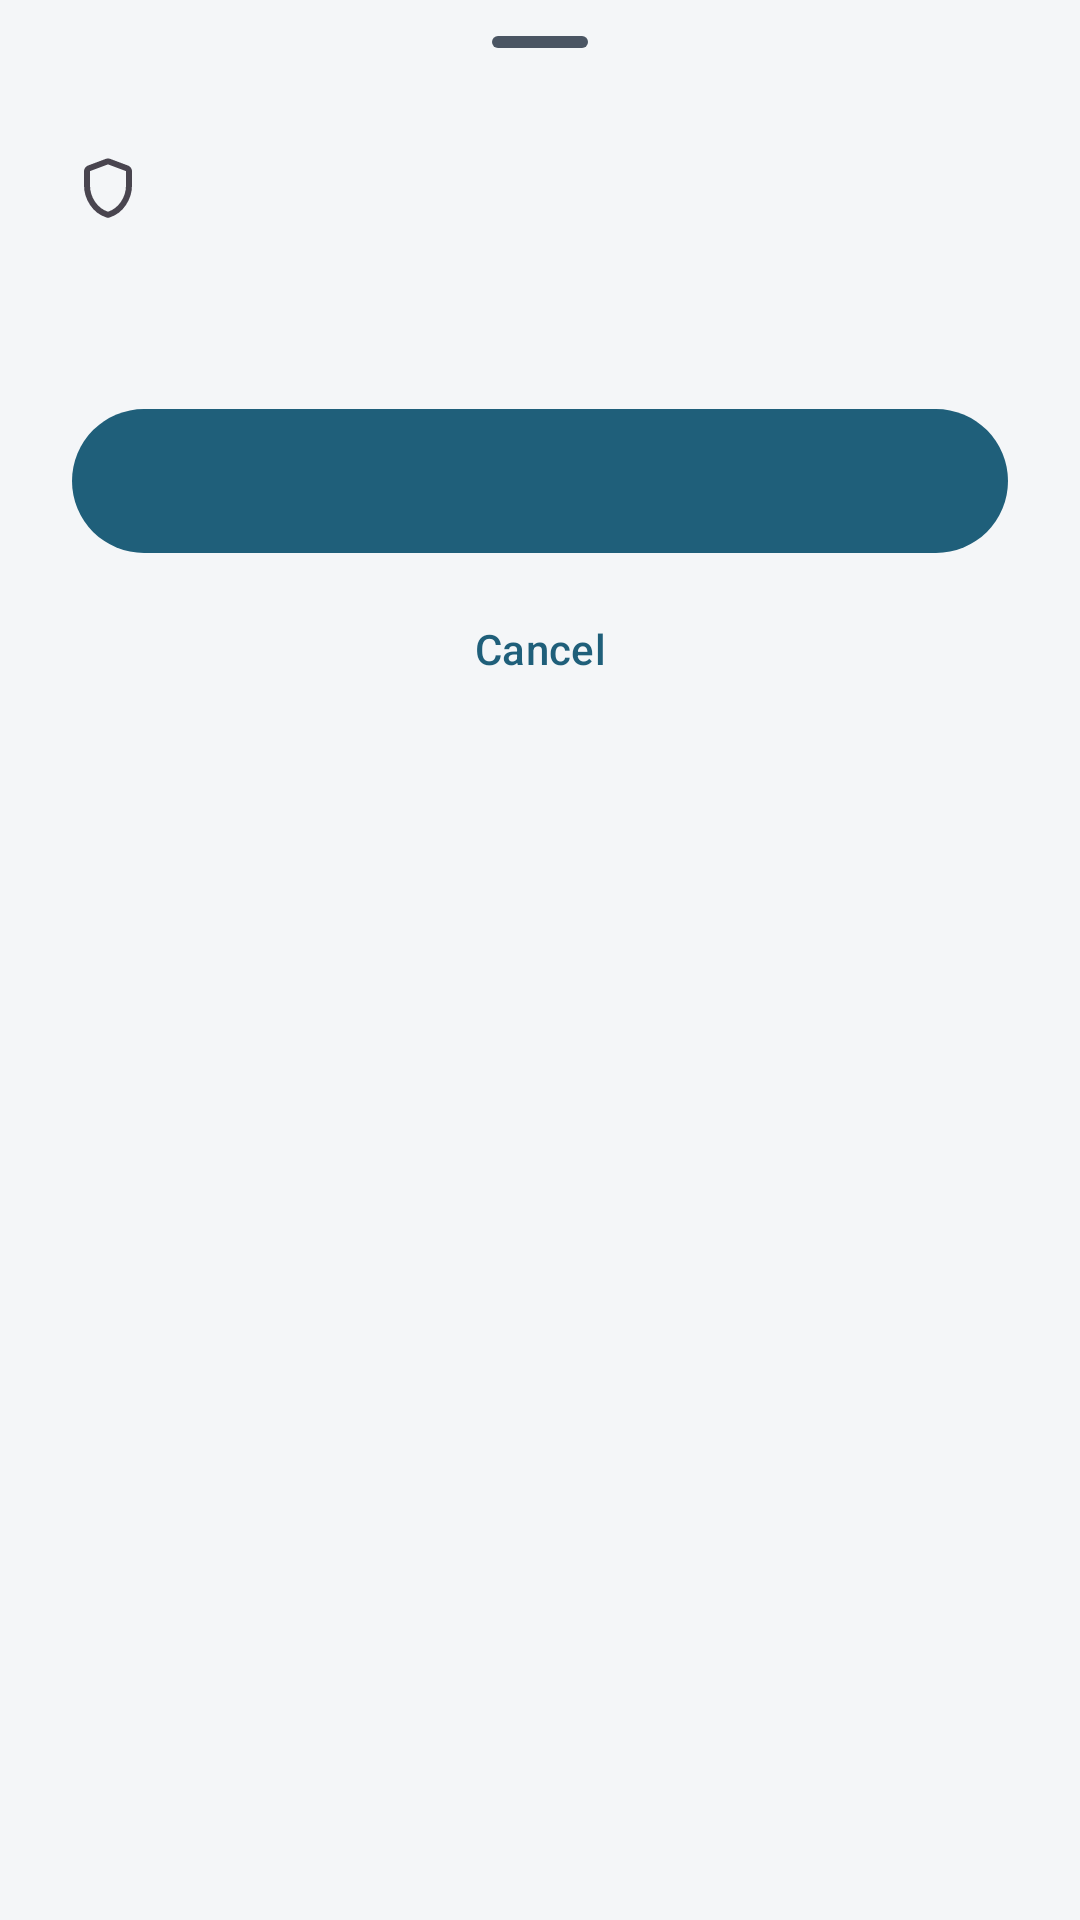

Where icons sit on this 1080×1920 app screen, as BBox(x1, y1, x2, y2):
shield: BBox(84, 158, 132, 218)
